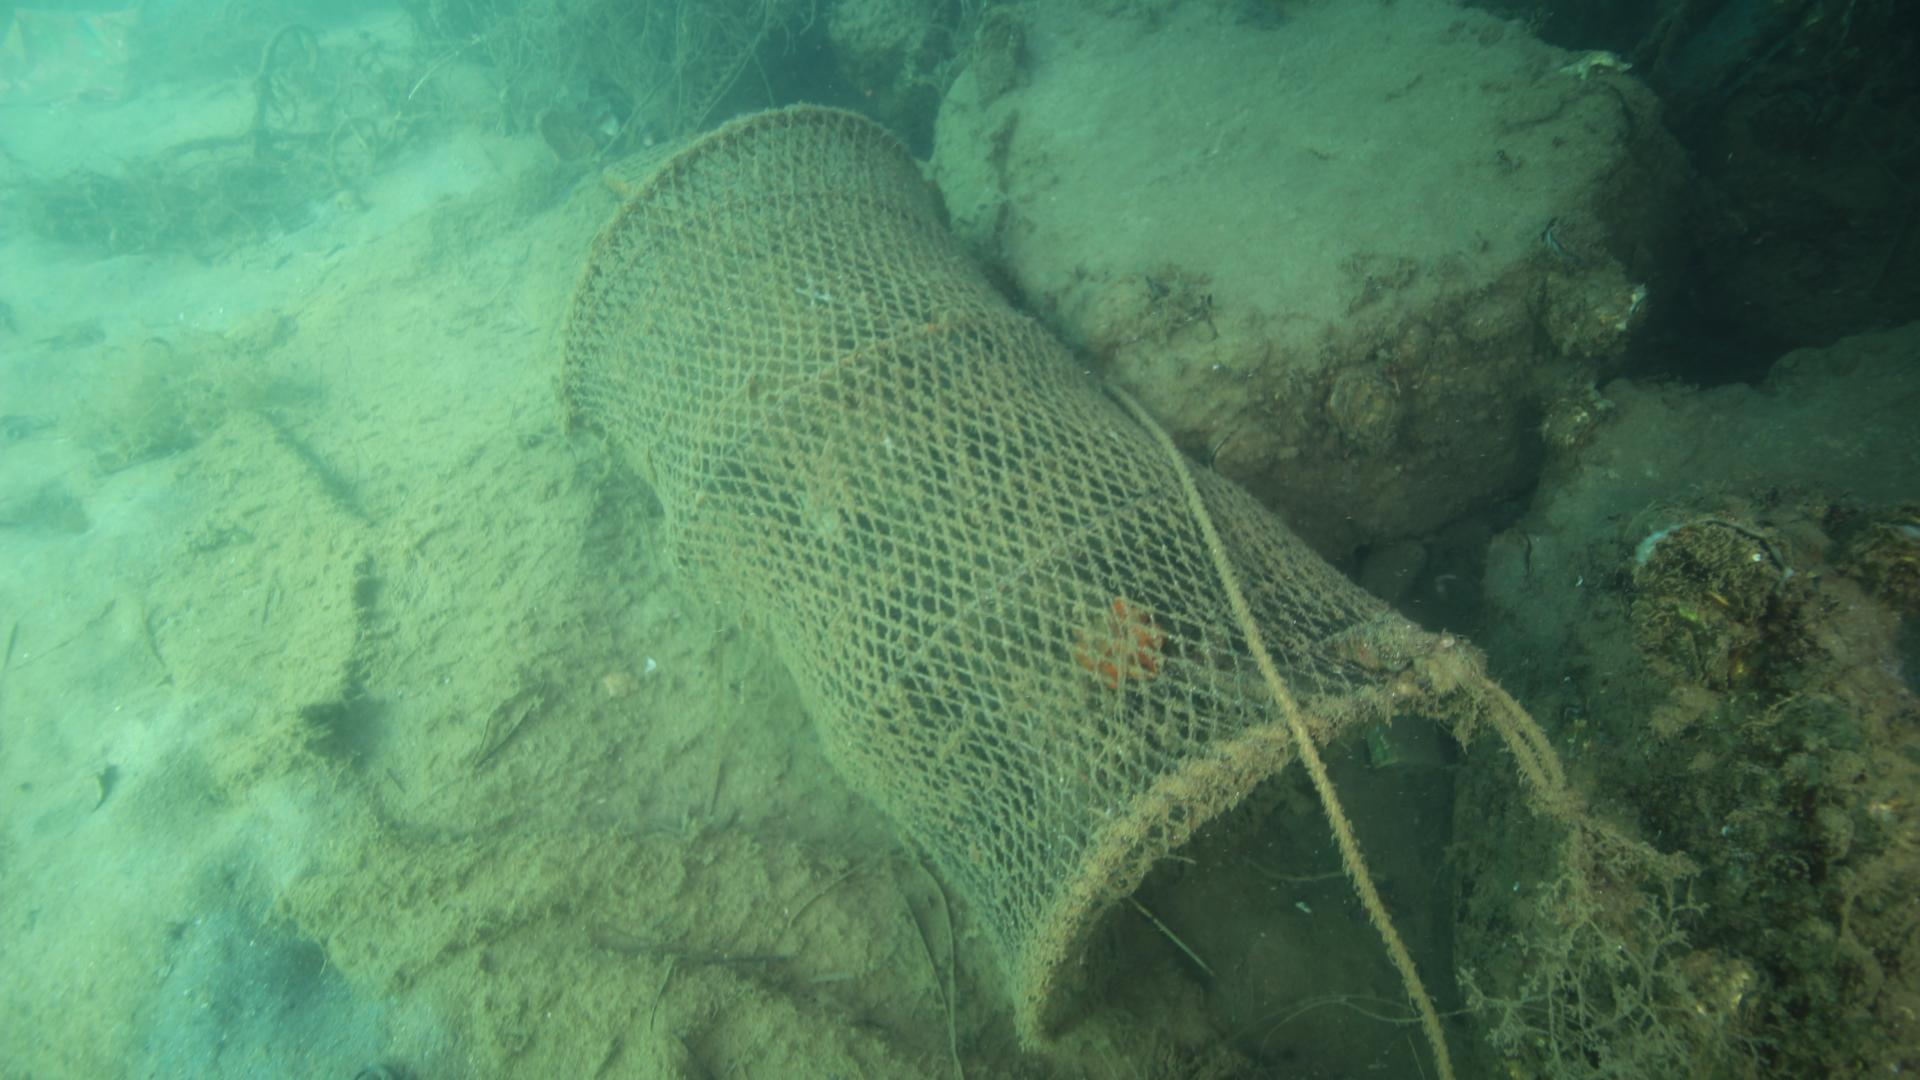bundle of ropes: (1422, 642, 1592, 824)
rope: (1093, 376, 1458, 1080)
spring fish trap: (529, 94, 1494, 1054)
